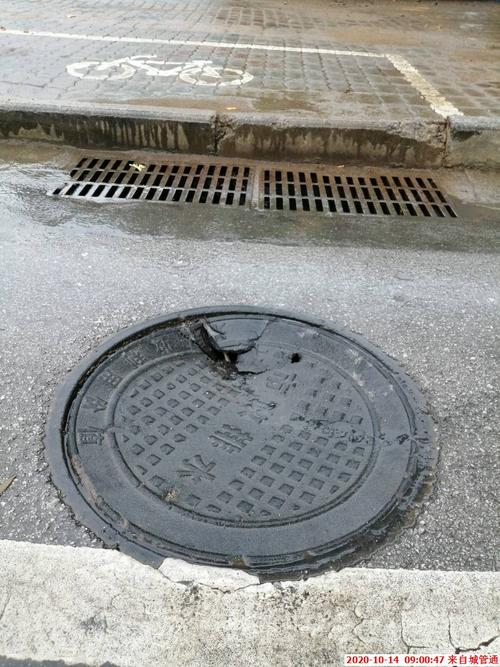broke: (33, 291, 446, 599)
